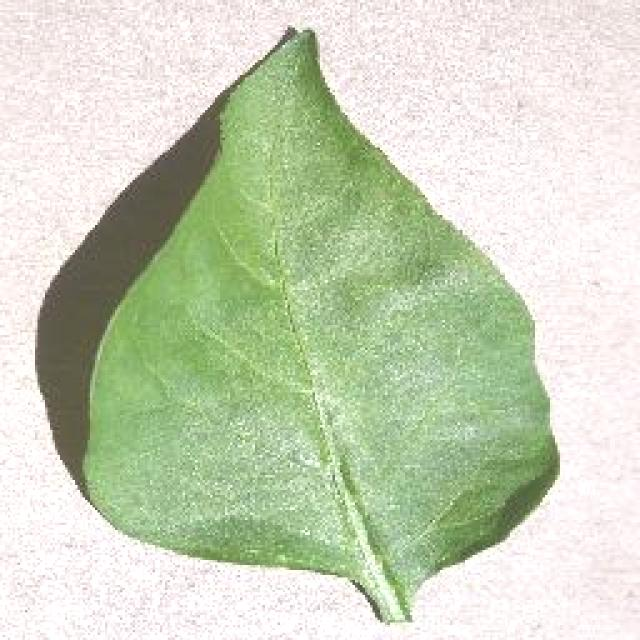Leaf: (32, 11, 590, 620)
